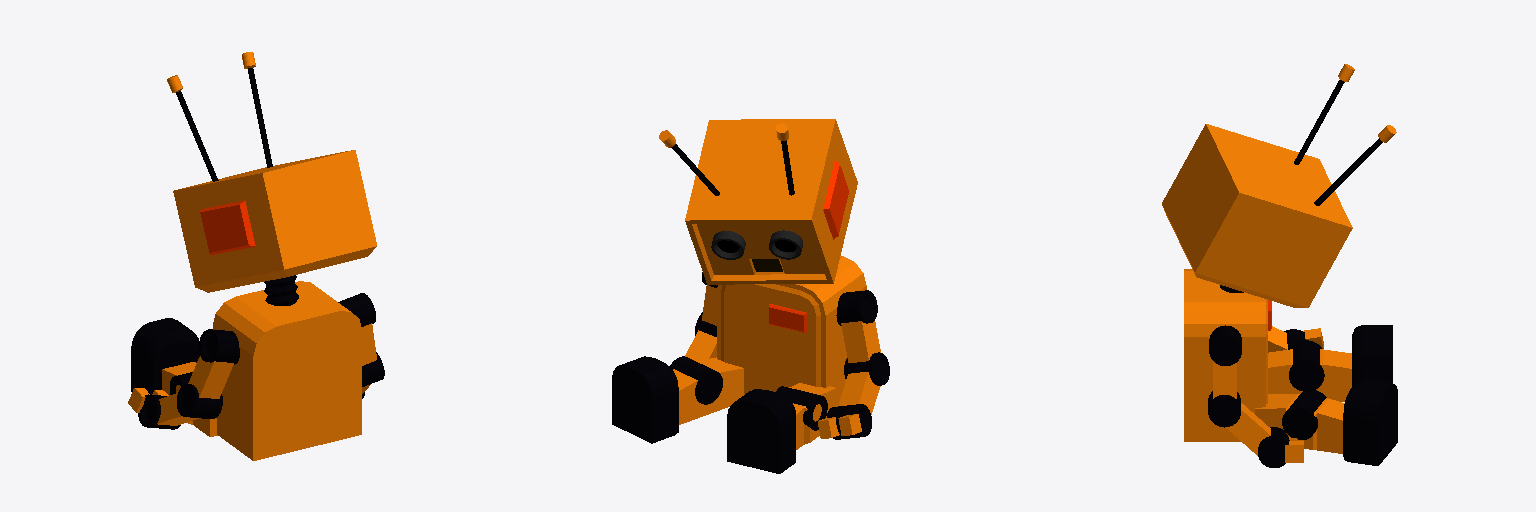
The model's file is gaintRobot.obj.
3 renders of one model, left to right at view 1: azimuth 30°, elevation 25°; view 2: azimuth 150°, elevation 25°; view 3: azimuth 270°, elevation 25°, orthographic.
Parts seen in each view (by area): view 1: Cube.001; view 2: Cube.001; view 3: Cube.001.
Boxes of the visible parts, x1=… form: Cube.001: x1=128, y1=52, x2=384, y2=460; Cube.001: x1=612, y1=119, x2=889, y2=473; Cube.001: x1=1162, y1=64, x2=1397, y2=467.
Bounding box in the file's own units: 3.46 × 5.2 × 3.32.